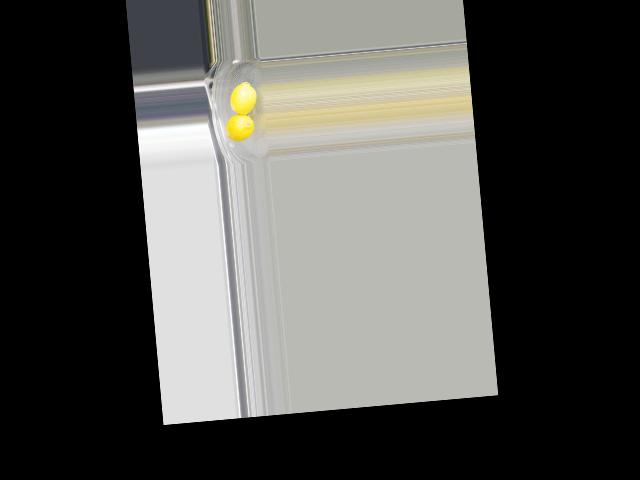lemon: (227, 78, 257, 118)
